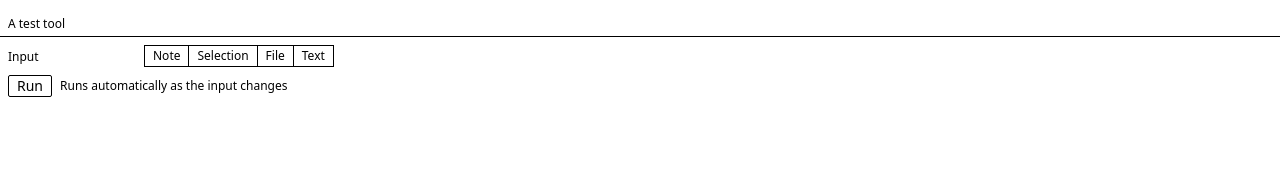
Test: shows a running tool as a progress track
Click the button named "run".
click(30, 86)  # box [8,75,52,97]
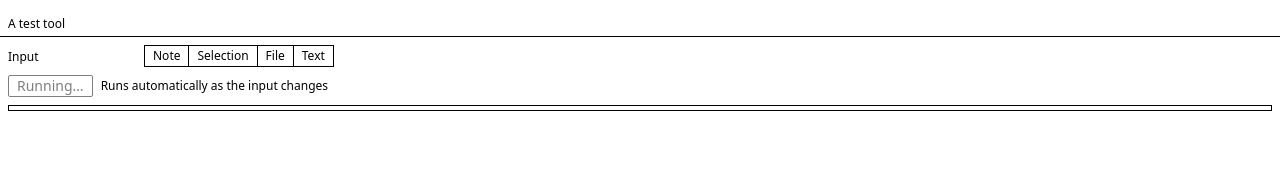
Check: the progress indicator named "Progress" is shown, box [8,105,1272,111]
